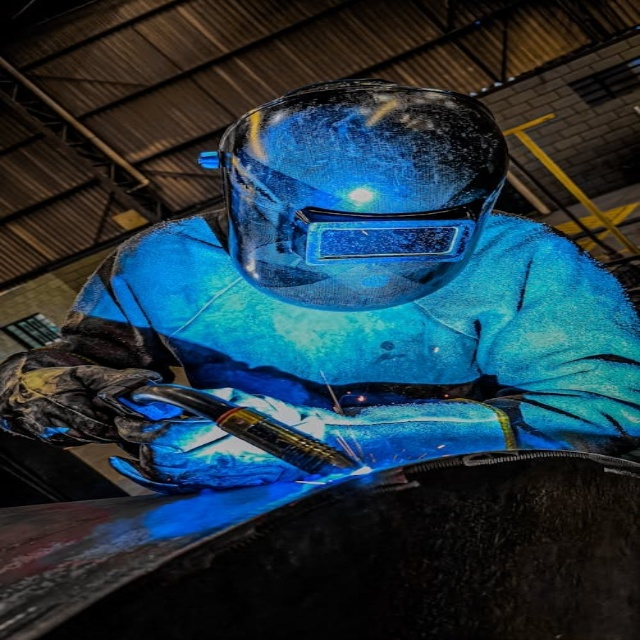Guantes: (104, 382, 529, 478), (5, 331, 155, 447)
